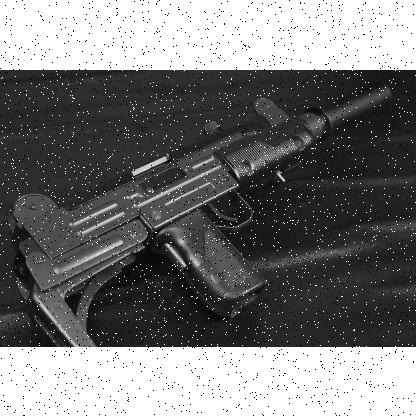gun: (7, 80, 393, 346)
